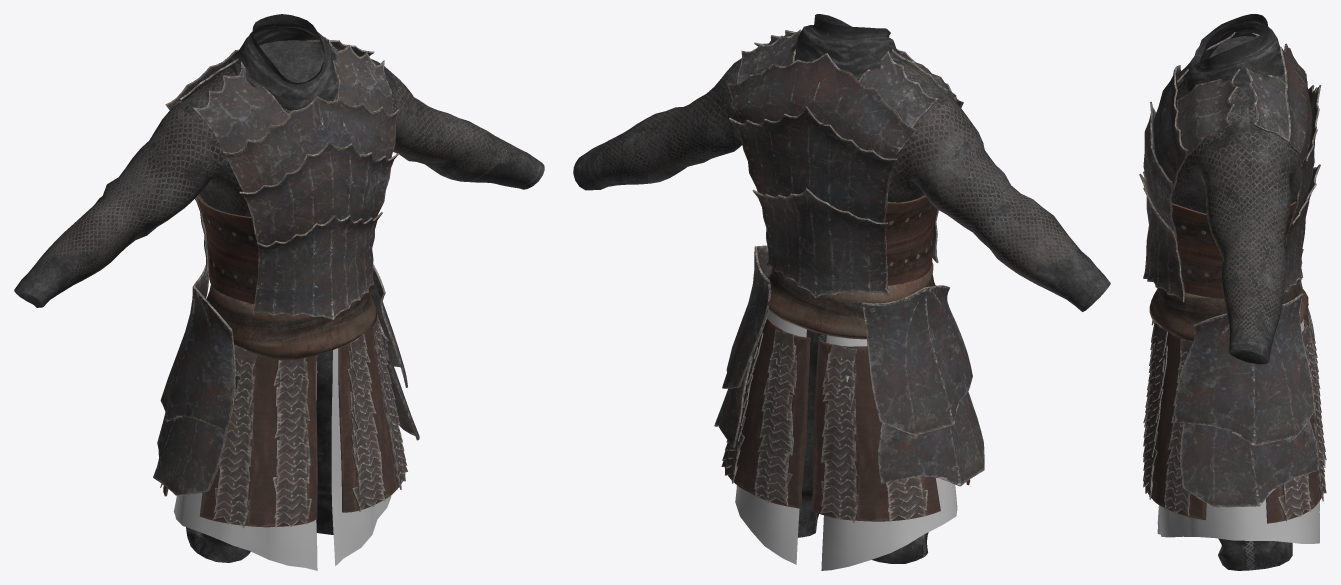
The model's file is sk_dg_uruk_chest_elite_e.fbx.
The picture shows the model from 3 angles, left to right: view 1: azimuth 30°, elevation 25°; view 2: azimuth 150°, elevation 25°; view 3: azimuth 270°, elevation 25°; orthographic projection. The views are drawn at different scales.
Visible parts, largest first — view 1: sk_dg_uruk_chest_elite_e.2, sk_dg_uruk_chest_elite_e.0, sk_dg_uruk_chest_elite_e.skirt.1, sk_dg_uruk_chest_elite_e.skirt.2, sk_dg_uruk_chest_elite_e.skirt.0, sk_dg_uruk_chest_elite_e.1; view 2: sk_dg_uruk_chest_elite_e.2, sk_dg_uruk_chest_elite_e.0, sk_dg_uruk_chest_elite_e.skirt.1, sk_dg_uruk_chest_elite_e.skirt.2, sk_dg_uruk_chest_elite_e.skirt.0, sk_dg_uruk_chest_elite_e.1; view 3: sk_dg_uruk_chest_elite_e.0, sk_dg_uruk_chest_elite_e.skirt.2, sk_dg_uruk_chest_elite_e.2, sk_dg_uruk_chest_elite_e.skirt.1, sk_dg_uruk_chest_elite_e.skirt.0, sk_dg_uruk_chest_elite_e.1.
Part boxes in pixels (x1,y1,x2,y2): sk_dg_uruk_chest_elite_e.2: (165, 36, 399, 319); sk_dg_uruk_chest_elite_e.0: (14, 14, 544, 562); sk_dg_uruk_chest_elite_e.skirt.1: (160, 314, 407, 528); sk_dg_uruk_chest_elite_e.skirt.2: (153, 263, 419, 495); sk_dg_uruk_chest_elite_e.skirt.0: (173, 348, 391, 570); sk_dg_uruk_chest_elite_e.1: (206, 284, 377, 359); sk_dg_uruk_chest_elite_e.2: (727, 27, 963, 297); sk_dg_uruk_chest_elite_e.0: (573, 14, 1110, 563); sk_dg_uruk_chest_elite_e.skirt.1: (721, 315, 970, 522); sk_dg_uruk_chest_elite_e.skirt.2: (714, 245, 984, 486); sk_dg_uruk_chest_elite_e.skirt.0: (735, 309, 957, 570); sk_dg_uruk_chest_elite_e.1: (768, 263, 935, 339); sk_dg_uruk_chest_elite_e.0: (1171, 14, 1305, 570); sk_dg_uruk_chest_elite_e.skirt.2: (1174, 249, 1318, 507); sk_dg_uruk_chest_elite_e.2: (1139, 31, 1321, 301); sk_dg_uruk_chest_elite_e.skirt.1: (1143, 307, 1326, 523); sk_dg_uruk_chest_elite_e.skirt.0: (1157, 319, 1319, 543); sk_dg_uruk_chest_elite_e.1: (1149, 280, 1308, 341).
Bounding box in the file's own units: 1.35 × 0.4243 × 1.28.
